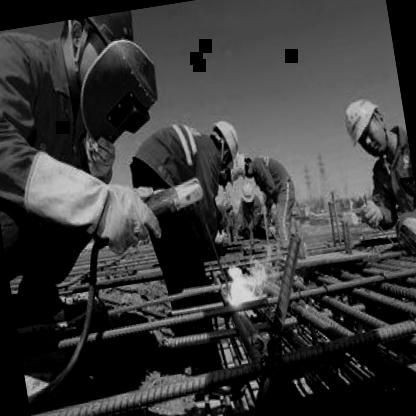helmet: (54, 8, 152, 92), (339, 90, 395, 160), (202, 115, 242, 162), (232, 150, 258, 180), (235, 178, 258, 209)
